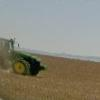Tractor: (6, 29, 49, 80)
